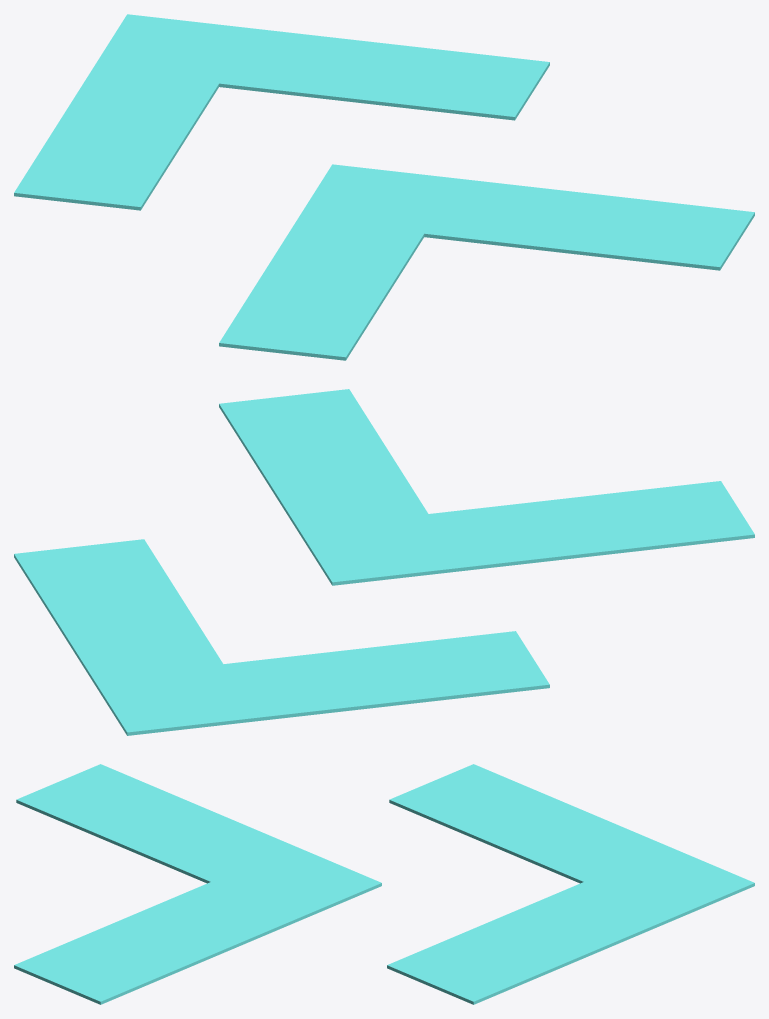
File: arrow.dae
3 renders of one model, top to bottom at view 1: azimuth 30°, elevation 25°; view 2: azimuth 150°, elevation 25°; view 3: azimuth 270°, elevation 25°, orthographic. The views are drawn at different scales.
Parts seen in each view (by area): view 1: arrow; view 2: arrow; view 3: arrow.
Part boxes in pixels (x1,y1,x2,y2): arrow: (14,14,754,360); arrow: (14,389,754,735); arrow: (14,764,754,1004).
Bounding box in the file's own units: 0.5657 × 0.0035 × 0.745.
